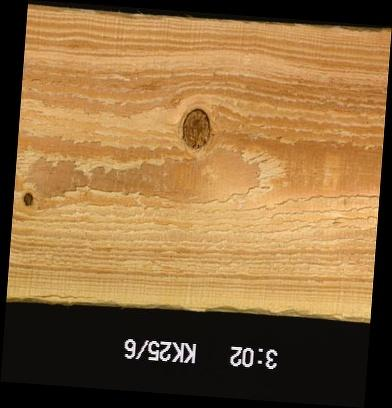dry_knot: (180, 106, 212, 152), (21, 189, 35, 209)
split: (25, 286, 98, 300)
wave: (128, 300, 369, 318), (28, 6, 161, 16)
